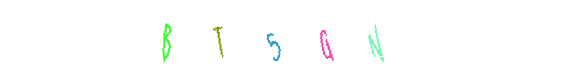5: (247, 0, 327, 80)
B: (140, 0, 220, 80)
G: (263, 0, 343, 80)
N: (285, 0, 365, 80)
T: (234, 0, 314, 80)
